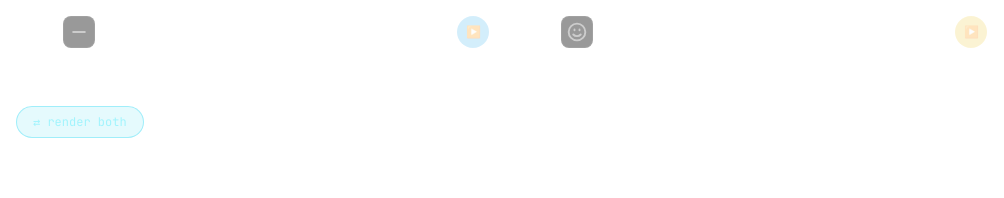
Test: EmotionAB › refuses to count a browser-voice take as evidence about the Voice
Click the button "⇄ render both": {"x": 80, "y": 122} [16, 106, 144, 138]
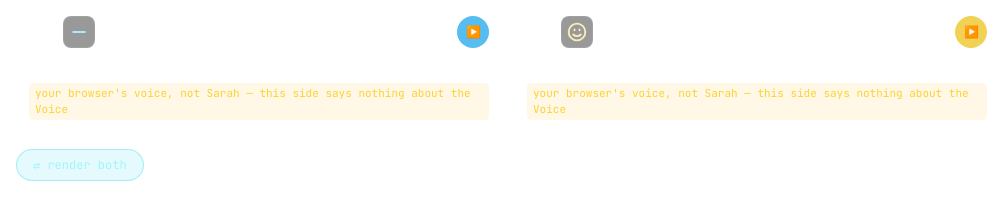
Now the text "says nothing about the Voice" is shown 2 times, box [29, 83, 489, 120]; [527, 83, 987, 120]
